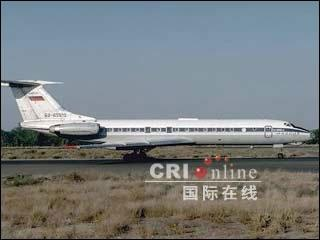airplane: (1, 76, 320, 158)
